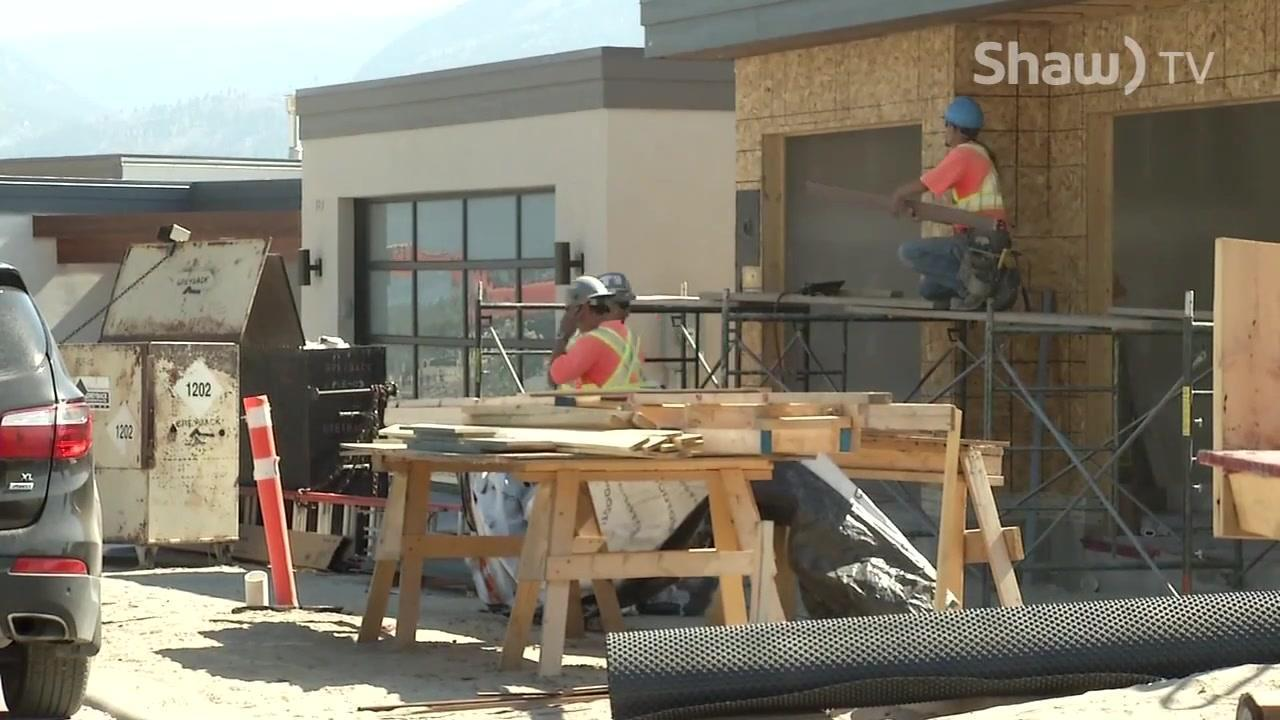vest: (921, 139, 1008, 231), (552, 320, 645, 392)
